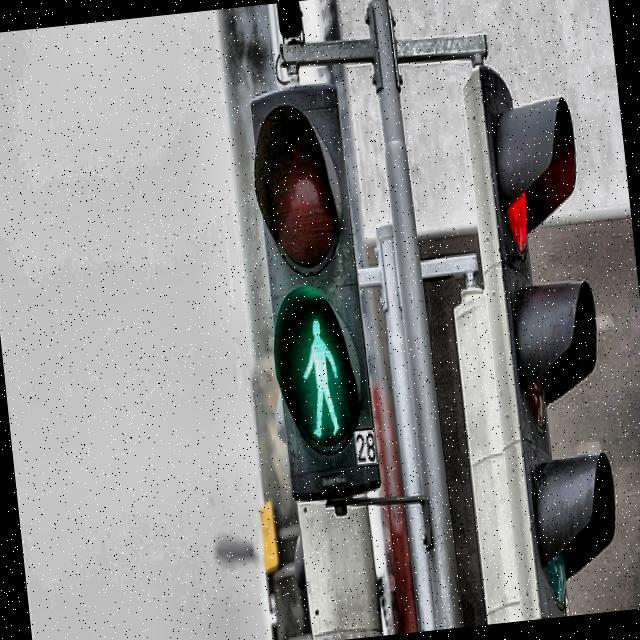green_light: (296, 314, 346, 443)
